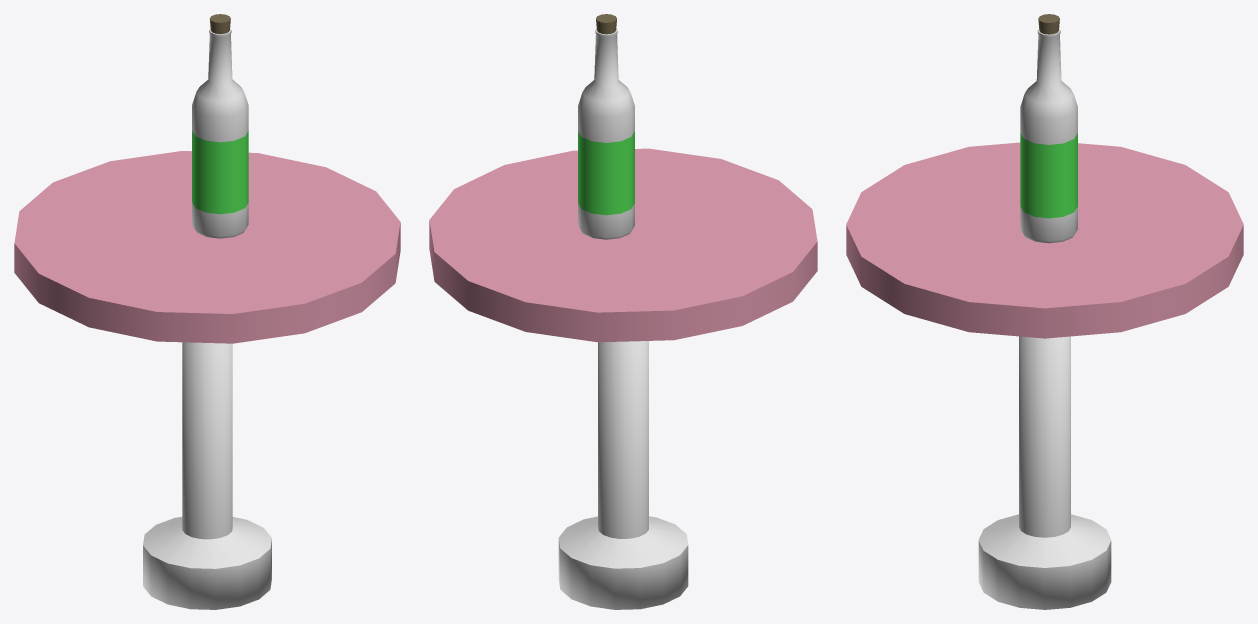
The model's file is wine.fbx.
3 renders of one model, left to right at view 1: azimuth 30°, elevation 25°; view 2: azimuth 150°, elevation 25°; view 3: azimuth 270°, elevation 25°, orthographic. The views are drawn at different scales.
Visible parts, largest first — view 1: Circle.002, Circle.003; view 2: Circle.002, Circle.003; view 3: Circle.002, Circle.003.
Boxes of the visible parts, box(x1,y1,x2,y2) form: Circle.002: box(14, 151, 400, 609); Circle.003: box(192, 14, 248, 238); Circle.002: box(429, 148, 817, 609); Circle.003: box(578, 14, 634, 239); Circle.002: box(846, 142, 1243, 609); Circle.003: box(1020, 14, 1077, 243).
Bounding box in the file's own units: 275 × 436 × 275.
